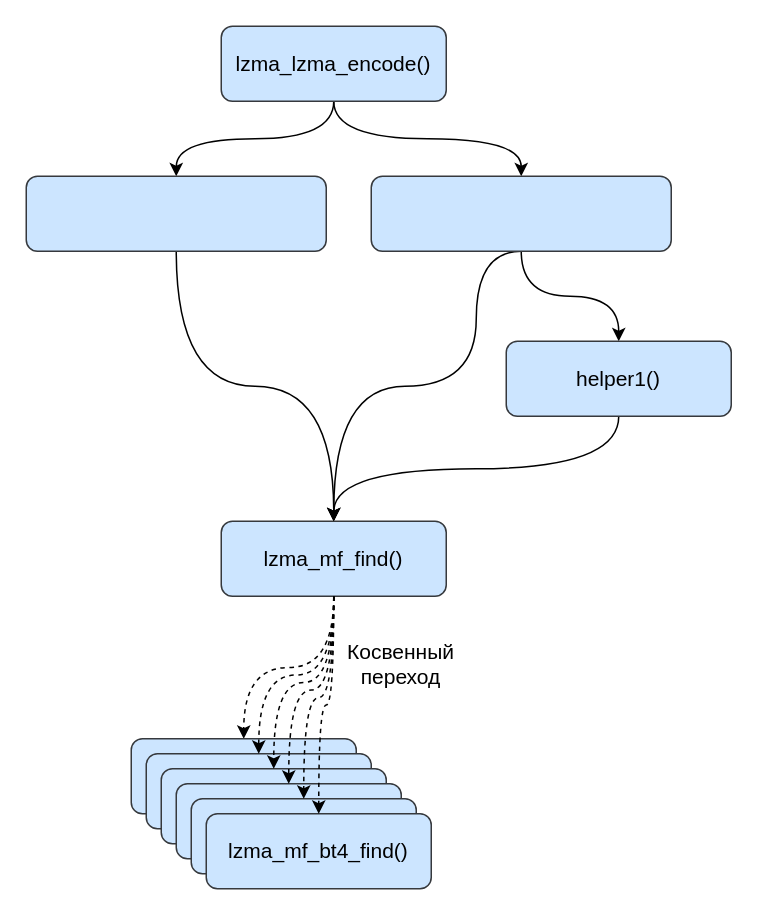
Image size: 758x915. Some labels were removed from this diagram. Each missing label, with the box of its shape:
lzma_lzma_optimum_fast(): (25, 175, 326, 251)
lzma_lzma_optimum_normal(): (370, 175, 671, 251)
